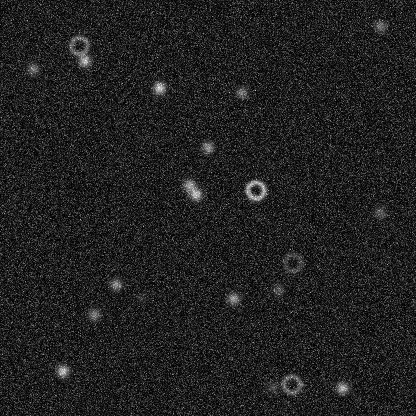Ring: (66, 33, 90, 57), (279, 372, 303, 396), (243, 178, 267, 202), (280, 250, 304, 274)
Spot: (85, 306, 101, 322), (24, 60, 40, 76), (187, 186, 203, 202), (372, 18, 388, 34), (270, 282, 286, 298), (181, 177, 197, 193), (225, 290, 241, 306), (233, 84, 249, 100), (76, 52, 92, 68), (108, 276, 124, 292), (334, 380, 350, 396), (133, 289, 149, 305), (199, 139, 215, 155), (54, 362, 70, 378), (264, 379, 280, 395), (371, 203, 387, 219), (151, 79, 167, 95)
